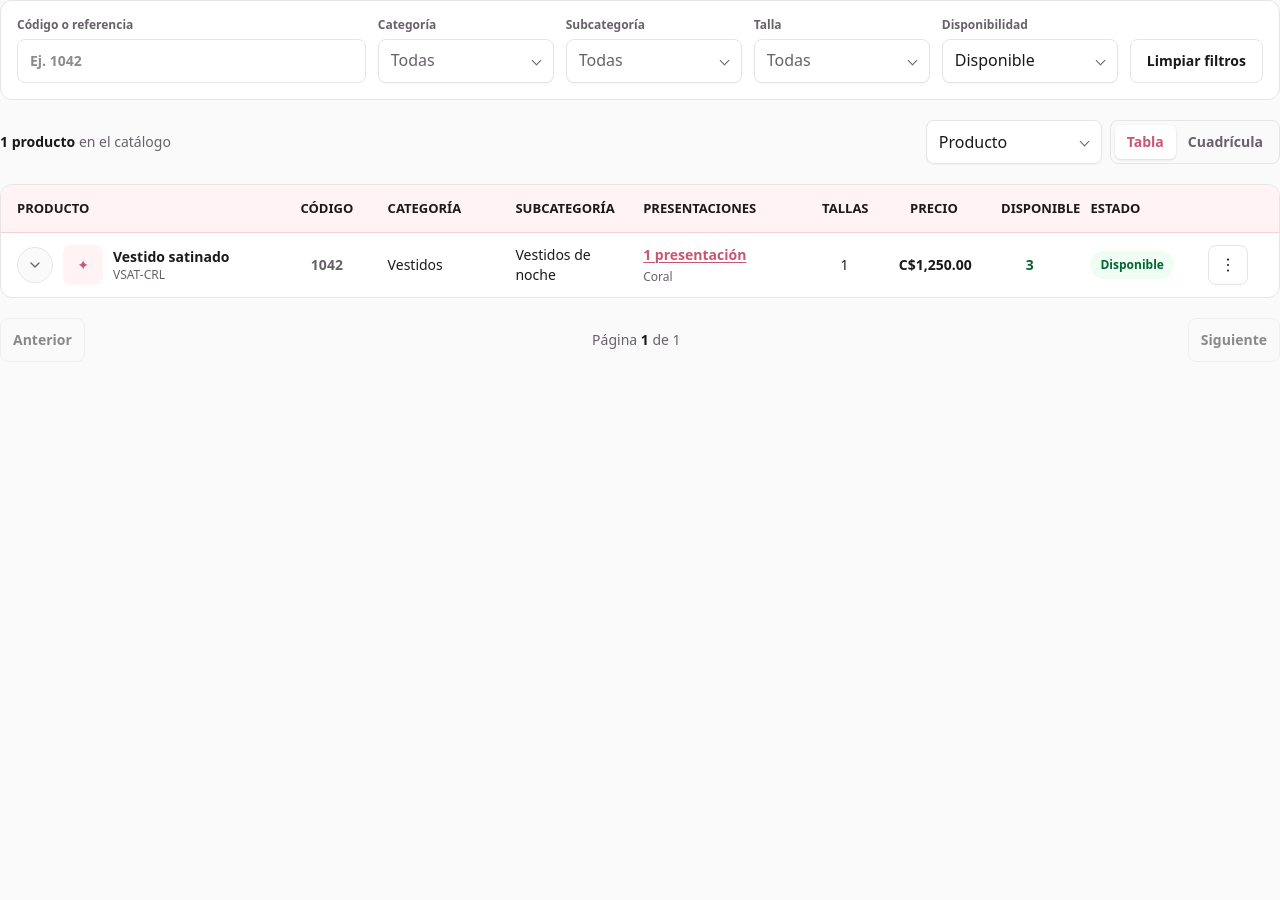
Test case: ProductsPage › muestra el error del backend al cargar movimientos
What coordinates should you click on to do the following:
click the button named "Ver detalles de Vestido satinado"
I would click on:
 (35, 265)
Its box is x1=17 y1=247 x2=53 y2=283.
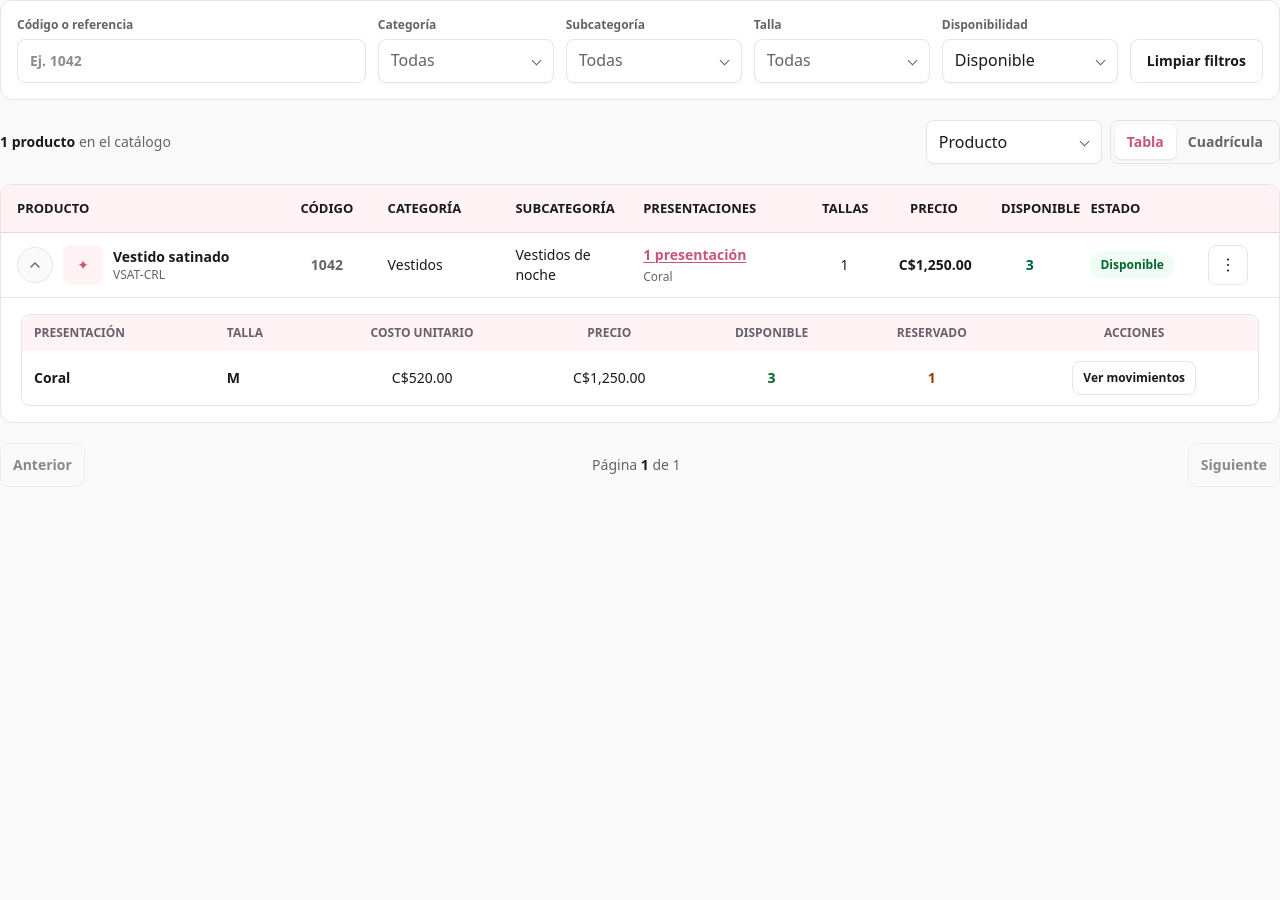
What coordinates should you click on to do the following:
click the button with aria-label "Ver movimientos de Coral · M"
I would click on:
 (1134, 378)
Its box is x1=1072 y1=361 x2=1196 y2=395.
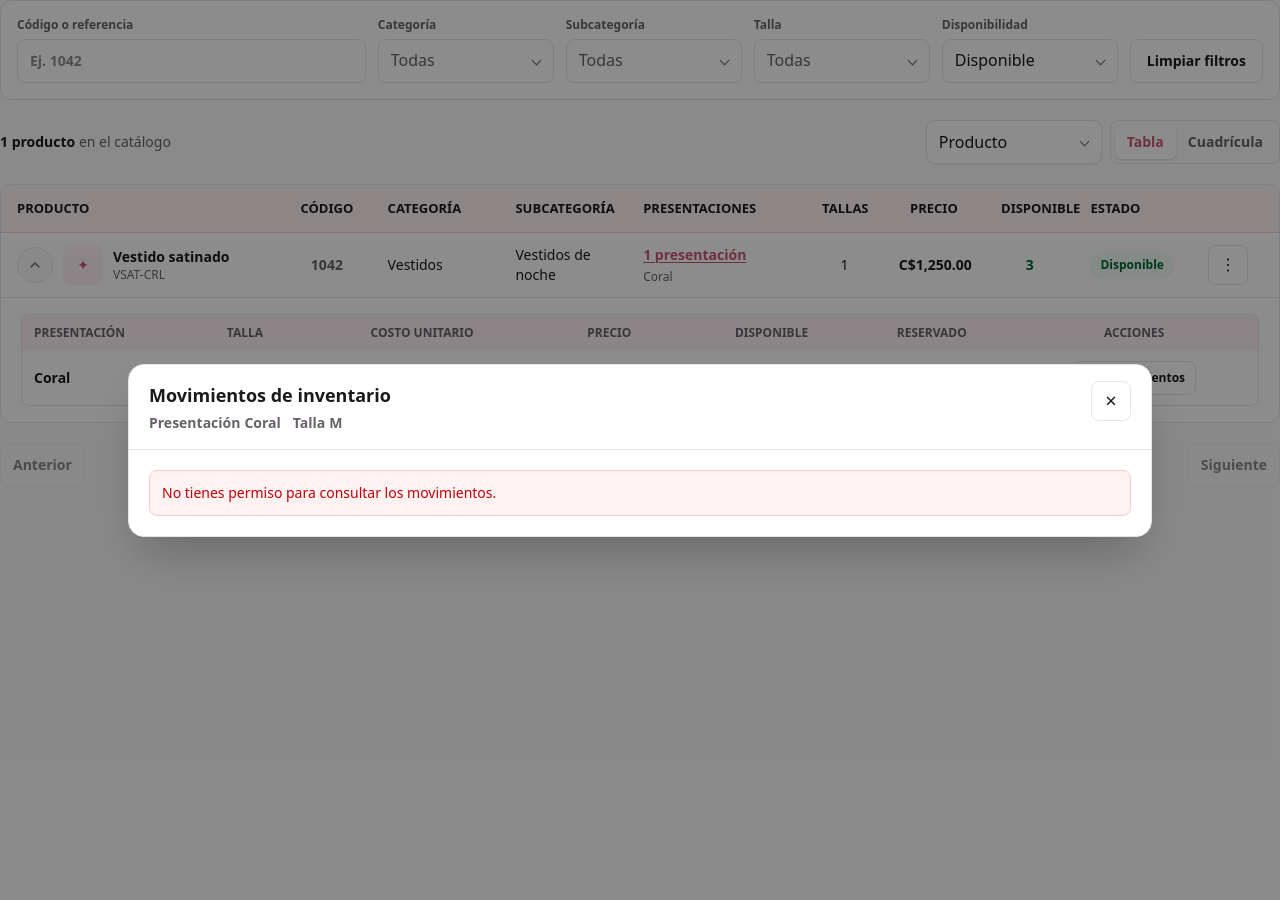
Now the message reads "No tienes permiso para consultar los movimientos.", box x1=162 y1=482 x2=496 y2=502
